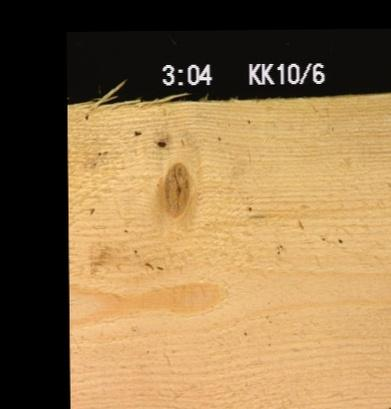sound_knot: (159, 160, 189, 218)
